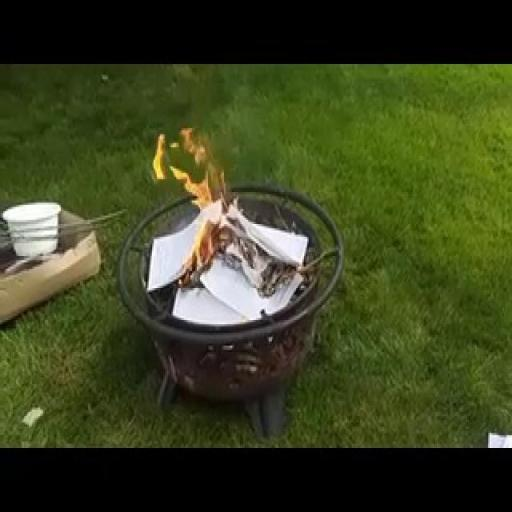smoke: (174, 125, 248, 287)
